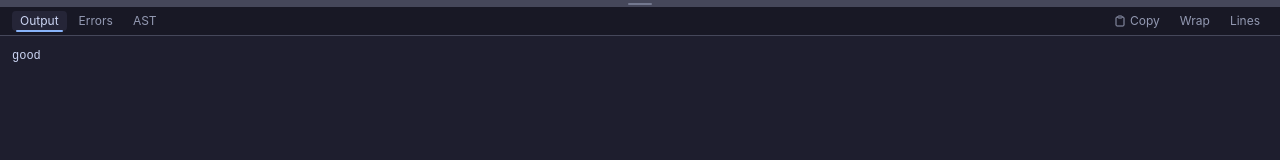
Test case: OutputPanel › switches back to output tab on click
Click the tab "Errors": coordinates (96, 21) [71,11,121,31]
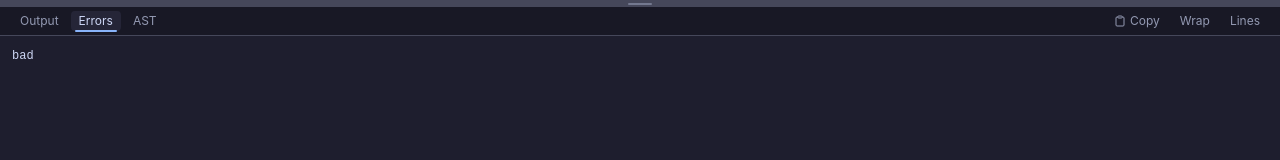
Now the text "bad" is shown, box [12,49,34,63]
Click the tab "Output": coordinates (39, 21) [12,11,67,31]
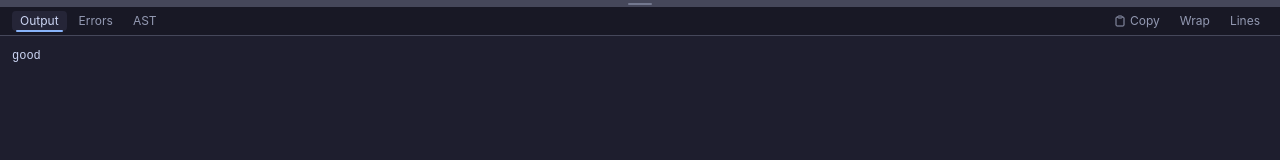
Now the text "good" is shown, box [12,49,41,63]
